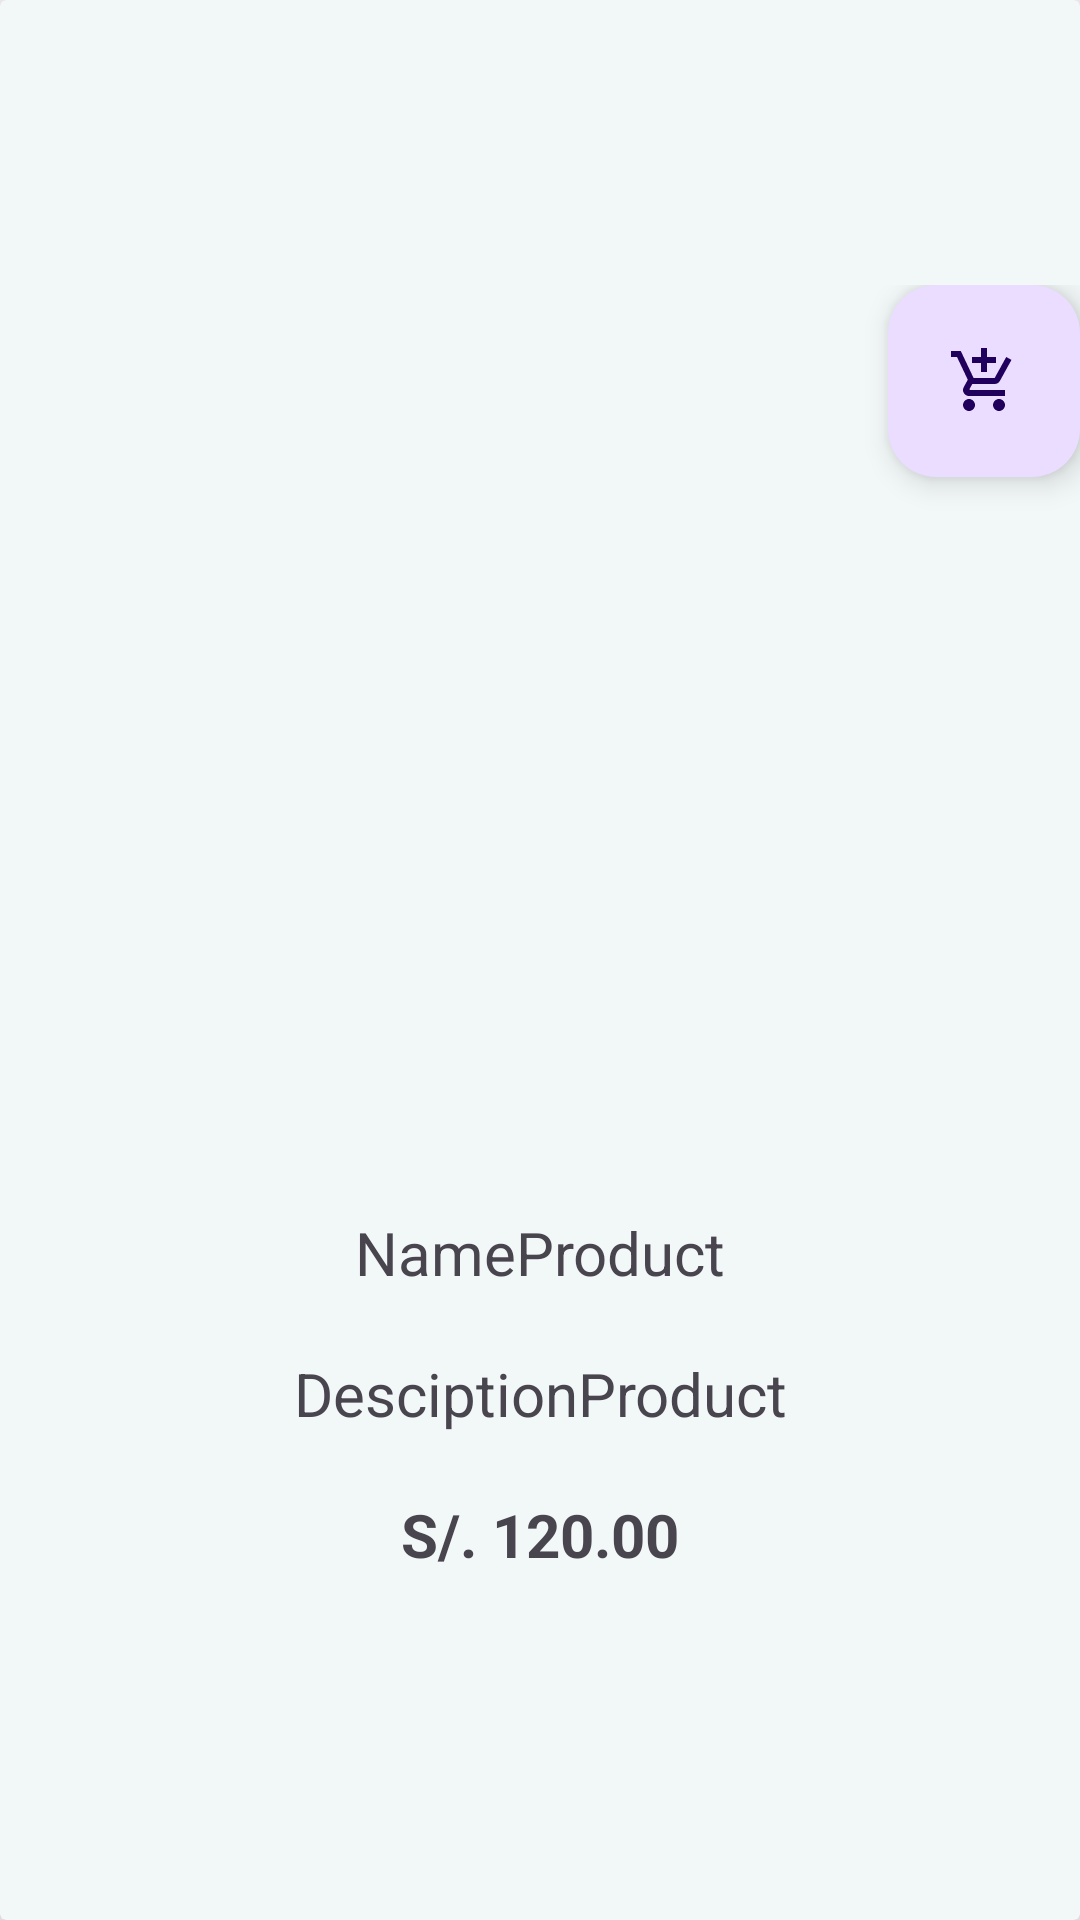

Screen size 1080x1920. Icon name, then its center in pixels as (x,y):
Button for add product: (984,381)
